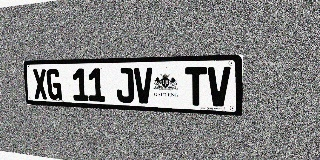1: (87, 68, 105, 102), (72, 68, 89, 101)
G: (46, 69, 62, 100)
J: (115, 68, 134, 103)
T: (185, 67, 207, 106)
V: (208, 66, 231, 107), (134, 67, 153, 104)
X: (32, 69, 48, 99)
